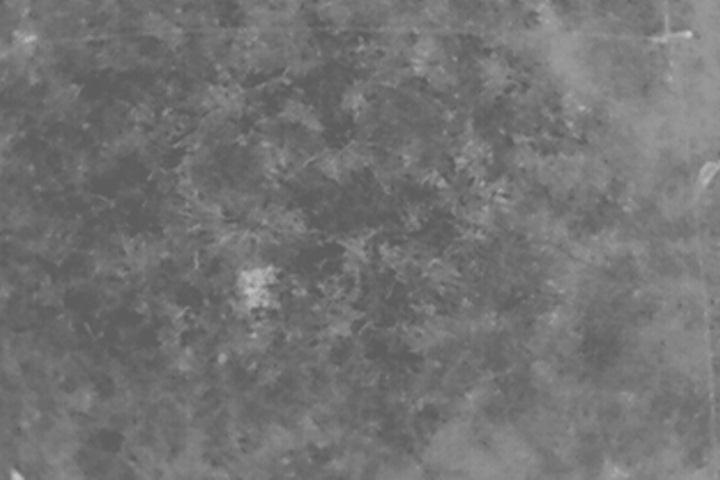landmine: (237, 263, 282, 310)
